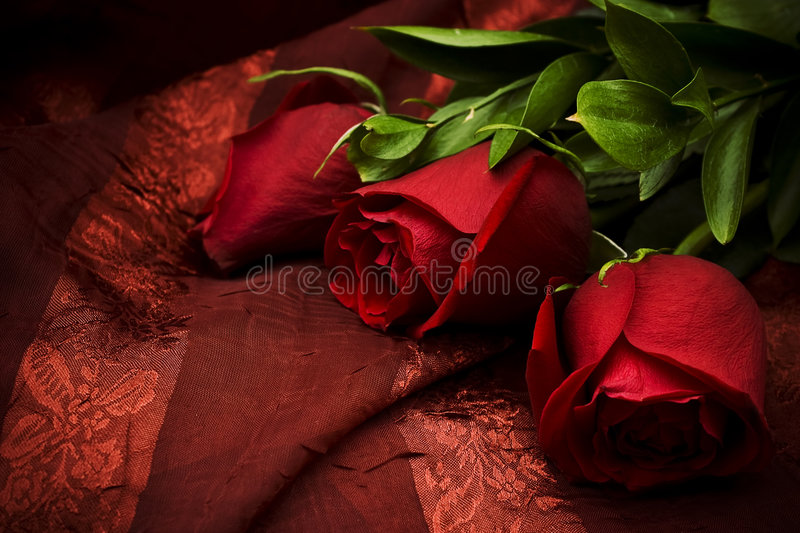RedRose: (537, 260, 774, 489), (333, 149, 572, 321), (224, 74, 369, 268)
